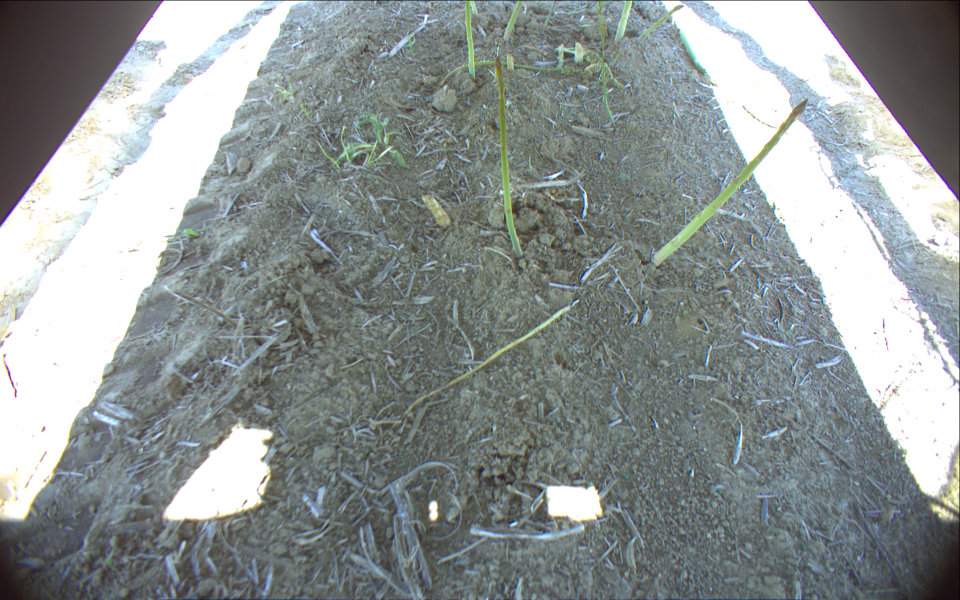aspa: (649, 96, 809, 268), (488, 55, 525, 263), (633, 4, 683, 45), (458, 1, 478, 82), (500, 1, 524, 42), (612, 1, 634, 42)
